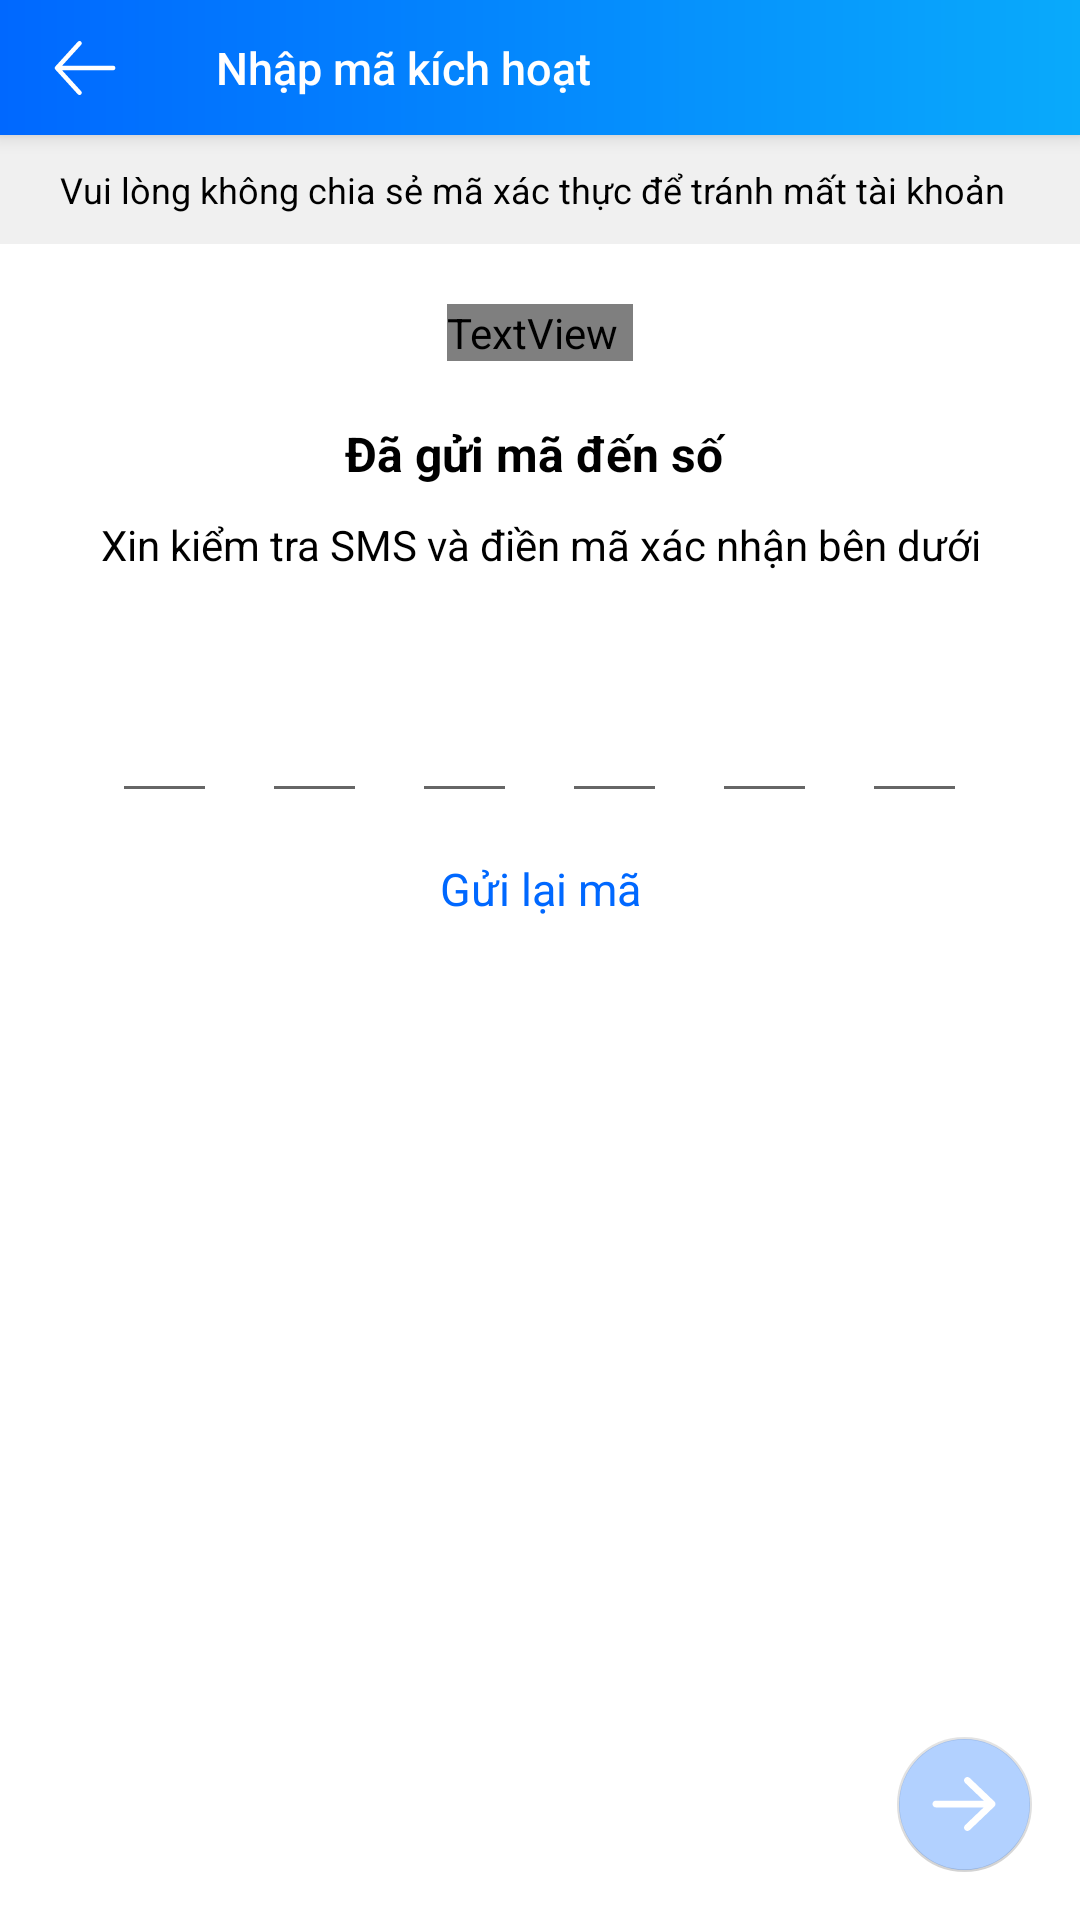

Screen size 1080x1920. Icon name, then its center in pixels as [x,y]:
arrow right: [964,1804]
